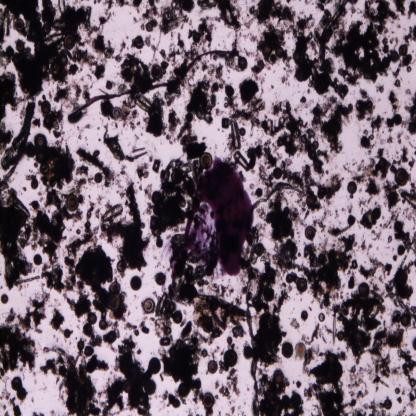Background material: (0, 0, 85, 100), (105, 178, 153, 274), (302, 233, 358, 313), (0, 176, 37, 288), (148, 154, 190, 251), (180, 283, 248, 342), (332, 22, 390, 86), (29, 186, 68, 264), (295, 14, 332, 96), (276, 156, 344, 200), (0, 98, 33, 187), (303, 356, 351, 416), (117, 336, 152, 415), (59, 356, 102, 416), (332, 303, 372, 366), (157, 336, 202, 390), (252, 300, 287, 369), (0, 322, 39, 382), (65, 195, 101, 258), (318, 100, 354, 152), (342, 284, 386, 323), (383, 277, 416, 329), (229, 77, 264, 126), (258, 99, 302, 136), (18, 282, 49, 333), (78, 246, 115, 288), (186, 81, 219, 128), (266, 192, 298, 240), (42, 146, 75, 190), (0, 68, 18, 148), (157, 0, 194, 38), (258, 373, 290, 416), (120, 52, 152, 92), (261, 29, 292, 70), (68, 47, 106, 79), (369, 322, 403, 357), (180, 119, 209, 158), (272, 240, 306, 273), (242, 221, 267, 264), (102, 121, 126, 164), (98, 376, 123, 416), (50, 78, 82, 109), (147, 90, 168, 137), (69, 280, 93, 321), (212, 0, 242, 32), (179, 320, 216, 345), (41, 264, 70, 295), (194, 11, 216, 51), (218, 366, 240, 405), (363, 0, 397, 25), (348, 364, 371, 400), (276, 133, 306, 160), (0, 381, 23, 416), (60, 256, 80, 294), (391, 386, 416, 416), (258, 252, 278, 289), (359, 258, 392, 280), (368, 355, 393, 384), (83, 16, 107, 46), (354, 86, 374, 122), (203, 64, 229, 90), (273, 0, 296, 29), (104, 168, 125, 199), (79, 148, 106, 172), (246, 138, 264, 174), (44, 113, 67, 140), (92, 287, 110, 321), (272, 285, 292, 315), (352, 157, 375, 183), (165, 110, 181, 147), (397, 347, 416, 378), (374, 148, 392, 180), (312, 95, 338, 117), (302, 345, 320, 375), (0, 44, 19, 72), (92, 38, 115, 61), (382, 180, 401, 207), (380, 207, 402, 230), (86, 354, 110, 375), (144, 0, 161, 29), (223, 83, 240, 112), (264, 138, 280, 168), (313, 150, 331, 176), (394, 229, 412, 255), (42, 345, 73, 360), (403, 88, 416, 122), (358, 131, 376, 155), (114, 292, 128, 322), (314, 208, 330, 233), (66, 177, 86, 197), (155, 316, 173, 338), (331, 78, 349, 100), (120, 107, 137, 130), (93, 0, 112, 20), (257, 11, 278, 29), (259, 165, 274, 190), (162, 84, 180, 104), (243, 6, 258, 30), (40, 357, 60, 375), (388, 90, 403, 113), (166, 43, 182, 64), (305, 323, 319, 346), (359, 210, 374, 231), (232, 315, 245, 339), (369, 400, 388, 416), (52, 308, 63, 335), (139, 395, 153, 416), (279, 61, 291, 85), (2, 308, 18, 326), (370, 116, 385, 135), (327, 224, 352, 235), (281, 405, 306, 416), (108, 318, 121, 339), (316, 0, 333, 16), (100, 99, 113, 119), (234, 286, 247, 306), (91, 328, 103, 349), (392, 58, 404, 79), (302, 122, 316, 140), (230, 28, 240, 53), (359, 195, 372, 214), (368, 178, 381, 197), (123, 321, 139, 336), (116, 42, 128, 62), (295, 210, 307, 230), (242, 33, 260, 46), (405, 23, 416, 44), (84, 5, 92, 33), (115, 0, 143, 8), (218, 116, 230, 134), (74, 123, 92, 135), (15, 276, 41, 284), (192, 388, 204, 405), (110, 357, 121, 375), (402, 258, 416, 272), (401, 207, 416, 220), (401, 144, 410, 165), (407, 0, 416, 21), (300, 95, 314, 108), (176, 34, 185, 54), (200, 59, 212, 74), (76, 166, 92, 177), (138, 321, 150, 335), (175, 61, 186, 76), (167, 391, 178, 406), (185, 48, 200, 59), (81, 86, 91, 102), (351, 406, 367, 416), (388, 311, 400, 324), (395, 0, 404, 17), (162, 62, 171, 79), (290, 317, 300, 332), (145, 182, 153, 200), (199, 281, 211, 293), (410, 232, 416, 256), (138, 162, 149, 175), (218, 284, 228, 298), (275, 267, 284, 282), (332, 312, 336, 345), (210, 284, 220, 297), (48, 299, 61, 309), (400, 254, 408, 270), (149, 37, 157, 53), (349, 272, 356, 290), (260, 75, 266, 96), (199, 346, 209, 358), (117, 83, 127, 95), (343, 164, 355, 174), (408, 155, 416, 170), (389, 37, 399, 49), (382, 38, 389, 54), (144, 202, 152, 216), (386, 118, 394, 132), (248, 182, 256, 196), (246, 50, 257, 60), (337, 351, 347, 362), (219, 361, 228, 373), (212, 345, 219, 360), (396, 131, 404, 144), (402, 117, 410, 130), (31, 118, 41, 128), (324, 325, 334, 335), (372, 230, 382, 240), (376, 83, 385, 94), (31, 409, 45, 416), (360, 240, 367, 254), (144, 34, 152, 46), (252, 65, 260, 77), (225, 135, 231, 151), (229, 404, 237, 416), (348, 7, 361, 14), (132, 15, 142, 24), (203, 408, 214, 416), (392, 366, 400, 377), (346, 202, 354, 213), (33, 328, 44, 336), (293, 272, 299, 286), (366, 243, 372, 257), (324, 198, 333, 207), (62, 292, 70, 302), (109, 344, 119, 352), (161, 389, 167, 401), (394, 79, 402, 88), (185, 408, 194, 416), (226, 343, 236, 350), (160, 48, 167, 58), (356, 219, 362, 230), (349, 0, 360, 6), (52, 334, 60, 342), (17, 284, 24, 293), (226, 288, 233, 297), (158, 400, 164, 410), (158, 372, 164, 382), (132, 134, 136, 149), (346, 266, 352, 276), (55, 376, 61, 386), (304, 0, 314, 6), (352, 259, 358, 269), (334, 208, 340, 218), (188, 30, 194, 40), (214, 382, 221, 390), (390, 165, 397, 173), (409, 142, 416, 150), (412, 336, 416, 350), (103, 333, 108, 344), (388, 135, 394, 144), (300, 333, 306, 342), (378, 275, 384, 284), (296, 380, 302, 389), (220, 346, 225, 356), (113, 120, 118, 130), (180, 396, 186, 404), (88, 178, 94, 186), (32, 164, 40, 170), (268, 84, 276, 90), (410, 181, 416, 189), (362, 402, 368, 410), (405, 88, 411, 96), (374, 384, 379, 393), (157, 260, 162, 269), (368, 278, 375, 284), (380, 139, 387, 145), (137, 348, 142, 356), (296, 230, 300, 240), (48, 90, 52, 100), (150, 316, 155, 324), (407, 66, 413, 72), (408, 173, 412, 182), (392, 255, 398, 261), (393, 160, 400, 165), (322, 336, 327, 343), (32, 370, 37, 377), (388, 235, 392, 243), (22, 373, 26, 381), (282, 283, 288, 288), (341, 206, 346, 212), (38, 101, 44, 106), (23, 186, 28, 192), (224, 411, 230, 416), (19, 400, 25, 405), (340, 290, 343, 300), (142, 24, 146, 31), (127, 310, 131, 317), (33, 378, 37, 385), (51, 409, 55, 416), (40, 387, 47, 391), (84, 137, 89, 142), (401, 199, 406, 204), (218, 410, 222, 416), (319, 331, 322, 339), (42, 94, 46, 100), (62, 337, 66, 343), (76, 325, 80, 331), (298, 252, 302, 258), (140, 184, 143, 192), (169, 31, 172, 39), (137, 121, 141, 127), (150, 156, 154, 162), (308, 306, 312, 312), (413, 217, 416, 225), (19, 366, 23, 372), (352, 162, 357, 166), (396, 150, 400, 155), (376, 246, 380, 251), (310, 299, 314, 304), (144, 316, 148, 321), (320, 352, 324, 357), (214, 395, 218, 400), (349, 194, 354, 198), (379, 222, 382, 228), (382, 214, 385, 220), (286, 0, 290, 4), (30, 398, 34, 402), (26, 284, 30, 288), (0, 268, 2, 276), (96, 127, 100, 131), (306, 336, 310, 340), (398, 25, 401, 30), (378, 98, 381, 103), (78, 136, 81, 141), (0, 285, 3, 290), (413, 226, 416, 231), (343, 283, 346, 288), (373, 220, 376, 225), (385, 246, 390, 249), (97, 139, 101, 142), (292, 380, 295, 384), (75, 336, 78, 340), (300, 297, 303, 301), (392, 247, 394, 252), (360, 188, 362, 193), (196, 413, 199, 416), (69, 341, 72, 344), (414, 152, 416, 156), (337, 348, 340, 350), (293, 308, 295, 310)
Cellulose filter fibre: (242, 275, 261, 416), (317, 0, 351, 71), (252, 180, 300, 210)
Cotton: (67, 48, 238, 121)
Diatom: (229, 119, 242, 151), (10, 197, 30, 217), (101, 204, 123, 222), (42, 29, 63, 47), (128, 146, 146, 164), (400, 190, 416, 210), (234, 151, 249, 171), (156, 292, 168, 316), (135, 96, 151, 113), (223, 349, 238, 367), (394, 168, 409, 186), (394, 269, 408, 287), (326, 352, 340, 370), (34, 133, 48, 150), (258, 0, 272, 16), (200, 152, 213, 169), (143, 296, 155, 314), (148, 358, 161, 374), (202, 392, 215, 408), (67, 194, 80, 210), (282, 342, 294, 359), (108, 294, 121, 309), (296, 277, 308, 293), (130, 275, 142, 291), (202, 317, 214, 333), (178, 382, 190, 398), (172, 167, 183, 184), (303, 226, 316, 240), (358, 282, 370, 297), (155, 271, 167, 286), (144, 380, 156, 395), (64, 35, 76, 49), (290, 393, 302, 407), (263, 288, 275, 302), (151, 64, 162, 79), (273, 369, 284, 384), (26, 142, 36, 158), (82, 322, 93, 336), (41, 100, 52, 114), (254, 242, 265, 256), (400, 313, 411, 327), (207, 360, 218, 374), (295, 342, 306, 356), (12, 376, 22, 391), (237, 57, 249, 69), (35, 151, 47, 163), (347, 181, 358, 194), (111, 280, 121, 294), (272, 167, 283, 179), (163, 8, 173, 21), (262, 44, 272, 57), (305, 195, 315, 208), (14, 18, 24, 31), (123, 380, 132, 394), (108, 330, 117, 344), (134, 35, 143, 49), (173, 310, 182, 324), (40, 163, 51, 174), (16, 388, 26, 400), (117, 260, 127, 272), (87, 312, 97, 324), (281, 394, 291, 406), (151, 192, 161, 204), (42, 23, 52, 35), (84, 345, 94, 357), (58, 364, 67, 377), (372, 207, 381, 220), (403, 53, 412, 66), (59, 54, 69, 65), (291, 127, 301, 138), (394, 220, 403, 232), (94, 172, 103, 184), (0, 292, 8, 305), (65, 145, 71, 162), (112, 108, 122, 118), (304, 140, 313, 151), (193, 378, 202, 389), (30, 179, 39, 190), (399, 44, 408, 55), (121, 105, 130, 116), (16, 40, 25, 51), (391, 50, 399, 62), (153, 160, 161, 172), (382, 56, 390, 68), (244, 346, 252, 358), (34, 254, 42, 266), (138, 395, 146, 407), (145, 22, 154, 32), (347, 215, 356, 225), (193, 32, 201, 43), (394, 113, 402, 124), (384, 399, 392, 410), (200, 2, 212, 9), (398, 244, 405, 256), (99, 320, 107, 330), (258, 209, 266, 219), (172, 398, 180, 408), (188, 341, 196, 351), (186, 112, 194, 122), (301, 310, 309, 320), (276, 47, 284, 57), (379, 380, 389, 388), (257, 60, 265, 70), (286, 273, 294, 283), (152, 205, 160, 215), (313, 114, 321, 124), (254, 302, 262, 312), (293, 51, 301, 61), (309, 149, 316, 160), (409, 122, 416, 133), (77, 340, 84, 351), (64, 328, 71, 338), (337, 331, 344, 341), (239, 127, 246, 136), (312, 140, 319, 149), (256, 188, 263, 197), (53, 120, 59, 130), (138, 168, 144, 178), (109, 310, 115, 320), (409, 378, 416, 386), (284, 135, 291, 143), (227, 336, 233, 344), (367, 100, 373, 108), (284, 207, 290, 215), (319, 313, 325, 321), (394, 386, 400, 394), (107, 81, 112, 90), (351, 398, 356, 406), (143, 172, 149, 178), (291, 214, 296, 221), (264, 362, 269, 368)
Pen: (173, 154, 248, 282)
